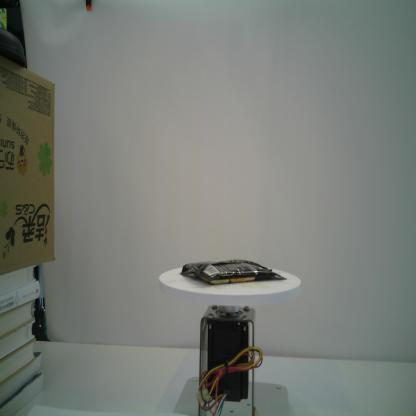Instant Drink: (179, 259, 287, 285)
